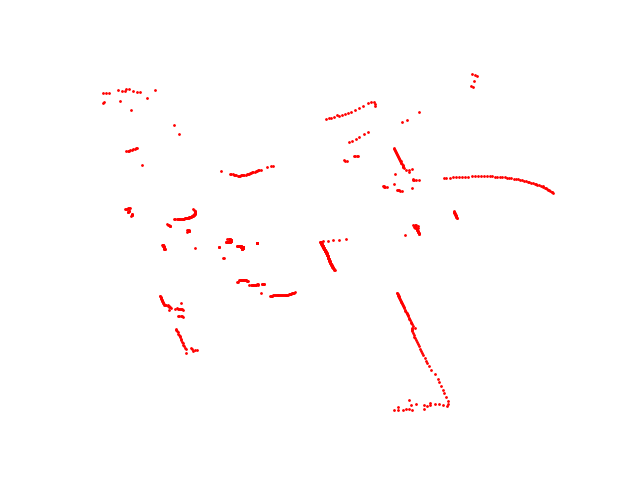person: (223, 235, 247, 254)
